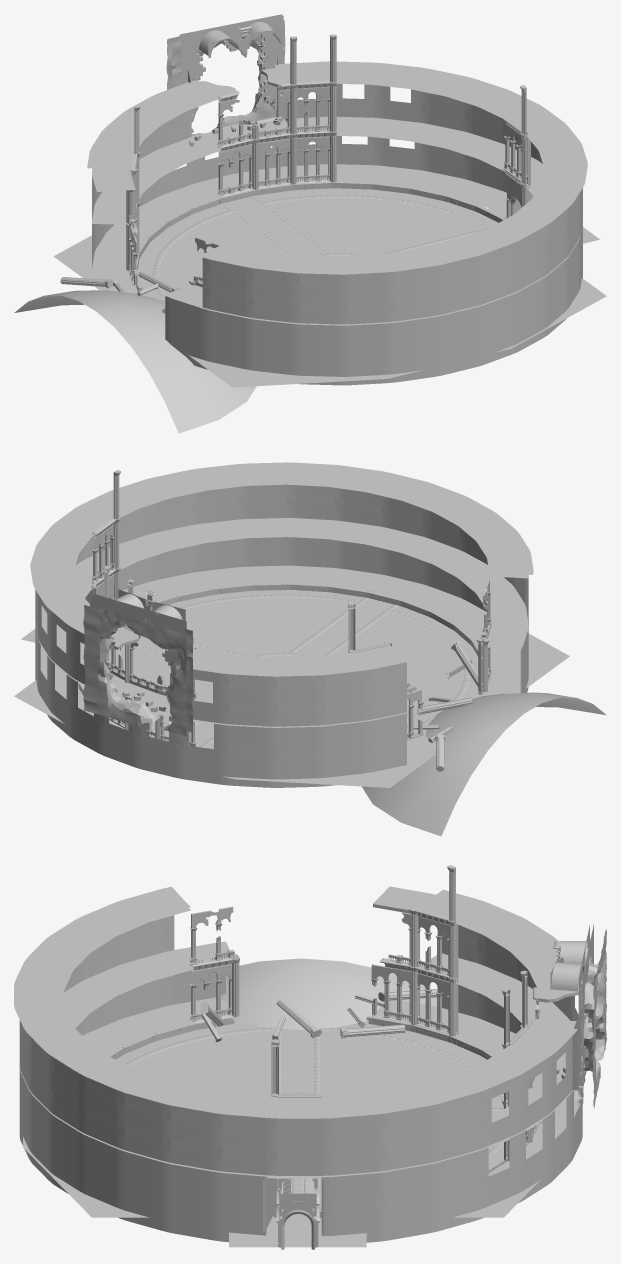
File: Bossarea.fbx
The picture shows the model from 3 angles, top to bottom: view 1: azimuth 30°, elevation 25°; view 2: azimuth 150°, elevation 25°; view 3: azimuth 270°, elevation 25°; orthographic projection. The views are drawn at different scales.
Visible parts, largest first — view 1: LODGroup_1_MainMesh_1_SubMesh_1, LODGroup_1_MainMesh_1_SubMesh_2, LODGroup_1_MainMesh_1_SubMesh_21, LODGroup_1_MainMesh_1_SubMesh_16, LODGroup_1_MainMesh_1_SubMesh_5, LODGroup_1_MainMesh_1_SubMesh_3, LODGroup_1_MainMesh_1_SubMesh_8, LODGroup_1_MainMesh_1_SubMesh_15, LODGroup_1_MainMesh_1_SubMesh_9, LODGroup_1_MainMesh_1_SubMesh_14, LODGroup_1_MainMesh_1_SubMesh_12; view 2: LODGroup_1_MainMesh_1_SubMesh_1, LODGroup_1_MainMesh_1_SubMesh_2, LODGroup_1_MainMesh_1_SubMesh_21, LODGroup_1_MainMesh_1_SubMesh_16, LODGroup_1_MainMesh_1_SubMesh_8, LODGroup_1_MainMesh_1_SubMesh_3, LODGroup_1_MainMesh_1_SubMesh_5, LODGroup_1_MainMesh_1_SubMesh_12, LODGroup_1_MainMesh_1_SubMesh_15; view 3: LODGroup_1_MainMesh_1_SubMesh_1, LODGroup_1_MainMesh_1_SubMesh_2, LODGroup_1_MainMesh_1_SubMesh_21, LODGroup_1_MainMesh_1_SubMesh_16, LODGroup_1_MainMesh_1_SubMesh_8, LODGroup_1_MainMesh_1_SubMesh_3, LODGroup_1_MainMesh_1_SubMesh_15, LODGroup_1_MainMesh_1_SubMesh_5, LODGroup_1_MainMesh_1_SubMesh_12, LODGroup_1_MainMesh_1_SubMesh_11, LODGroup_1_MainMesh_1_SubMesh_13.
Boxes of the visible parts, <box> form: LODGroup_1_MainMesh_1_SubMesh_1: <box>61,38,582,385</box>; LODGroup_1_MainMesh_1_SubMesh_2: <box>60,34,587,310</box>; LODGroup_1_MainMesh_1_SubMesh_21: <box>54,180,606,387</box>; LODGroup_1_MainMesh_1_SubMesh_16: <box>14,290,256,433</box>; LODGroup_1_MainMesh_1_SubMesh_5: <box>179,14,287,146</box>; LODGroup_1_MainMesh_1_SubMesh_3: <box>153,195,489,301</box>; LODGroup_1_MainMesh_1_SubMesh_8: <box>166,20,285,136</box>; LODGroup_1_MainMesh_1_SubMesh_15: <box>198,21,283,57</box>; LODGroup_1_MainMesh_1_SubMesh_9: <box>217,36,297,188</box>; LODGroup_1_MainMesh_1_SubMesh_14: <box>218,39,296,186</box>; LODGroup_1_MainMesh_1_SubMesh_12: <box>166,200,470,282</box>; LODGroup_1_MainMesh_1_SubMesh_1: <box>35,474,528,787</box>; LODGroup_1_MainMesh_1_SubMesh_2: <box>30,462,533,770</box>; LODGroup_1_MainMesh_1_SubMesh_21: <box>14,581,569,787</box>; LODGroup_1_MainMesh_1_SubMesh_16: <box>361,692,606,836</box>; LODGroup_1_MainMesh_1_SubMesh_8: <box>83,600,193,736</box>; LODGroup_1_MainMesh_1_SubMesh_3: <box>133,591,469,747</box>; LODGroup_1_MainMesh_1_SubMesh_5: <box>91,594,186,732</box>; LODGroup_1_MainMesh_1_SubMesh_12: <box>116,600,456,737</box>; LODGroup_1_MainMesh_1_SubMesh_15: <box>115,589,185,620</box>; LODGroup_1_MainMesh_1_SubMesh_1: <box>19,870,582,1242</box>; LODGroup_1_MainMesh_1_SubMesh_2: <box>14,865,579,1213</box>; LODGroup_1_MainMesh_1_SubMesh_21: <box>23,1020,540,1247</box>; LODGroup_1_MainMesh_1_SubMesh_16: <box>221,958,436,1029</box>; LODGroup_1_MainMesh_1_SubMesh_8: <box>574,929,606,1108</box>; LODGroup_1_MainMesh_1_SubMesh_3: <box>125,1027,503,1218</box>; LODGroup_1_MainMesh_1_SubMesh_15: <box>550,940,587,991</box>; LODGroup_1_MainMesh_1_SubMesh_5: <box>556,924,593,1104</box>; LODGroup_1_MainMesh_1_SubMesh_12: <box>154,1034,492,1245</box>; LODGroup_1_MainMesh_1_SubMesh_11: <box>278,1178,318,1249</box>; LODGroup_1_MainMesh_1_SubMesh_13: <box>278,1193,318,1243</box>.
Bounding box in the file's own units: 9456 × 3813 × 8847.
